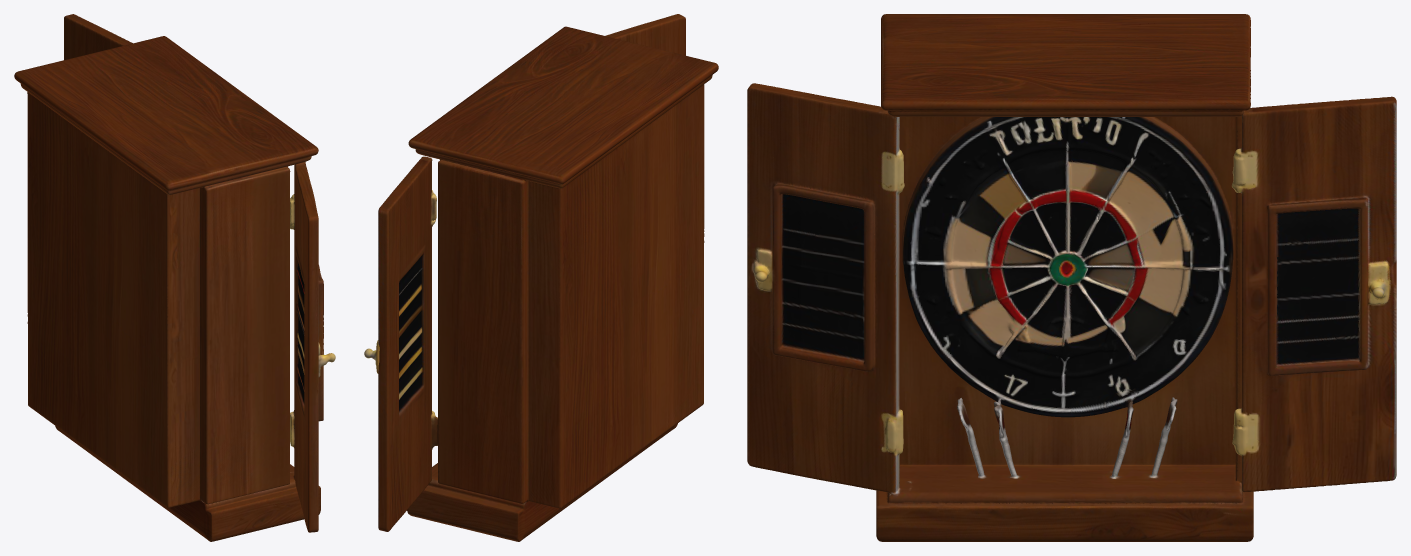
File: dartboard_cabinet.glb
3 views of the same model, side by side, from view 1: azimuth 30°, elevation 25°; view 2: azimuth 150°, elevation 25°; view 3: azimuth 270°, elevation 25° (orthographic). The views are drawn at different scales.
Visible parts, largest first — view 1: tripo_node_693455b8-721b-4c47-9e7a-413fbcfca97a; view 2: tripo_node_693455b8-721b-4c47-9e7a-413fbcfca97a; view 3: tripo_node_693455b8-721b-4c47-9e7a-413fbcfca97a.
Part boxes in pixels (<box>): tripo_node_693455b8-721b-4c47-9e7a-413fbcfca97a: <box>14,14,335,541</box>; tripo_node_693455b8-721b-4c47-9e7a-413fbcfca97a: <box>364,14,718,541</box>; tripo_node_693455b8-721b-4c47-9e7a-413fbcfca97a: <box>747,14,1396,541</box>.
Size of the model in its own units: 0.3256 by 0.7544 by 1.
1 material, 1 textured.
